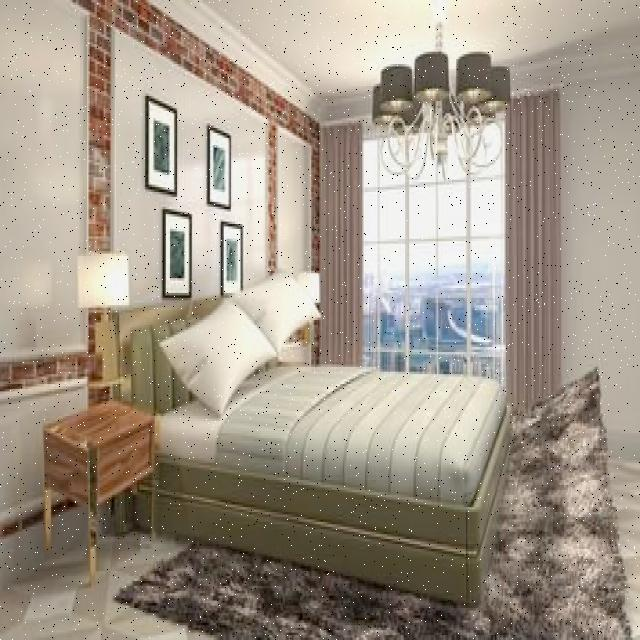bed: (136, 265, 513, 510)
